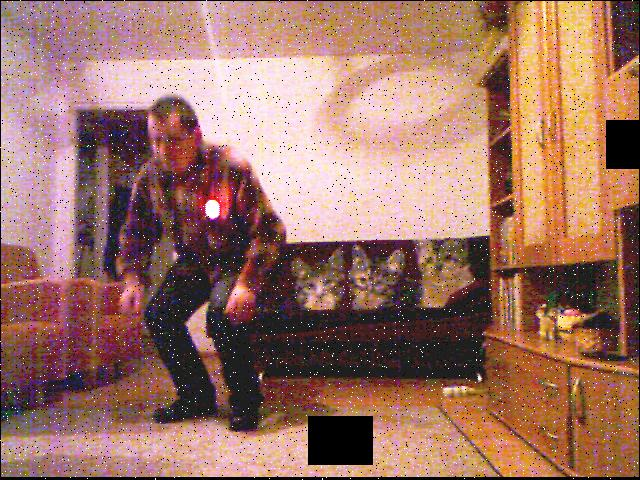sitting: (106, 91, 317, 443)
